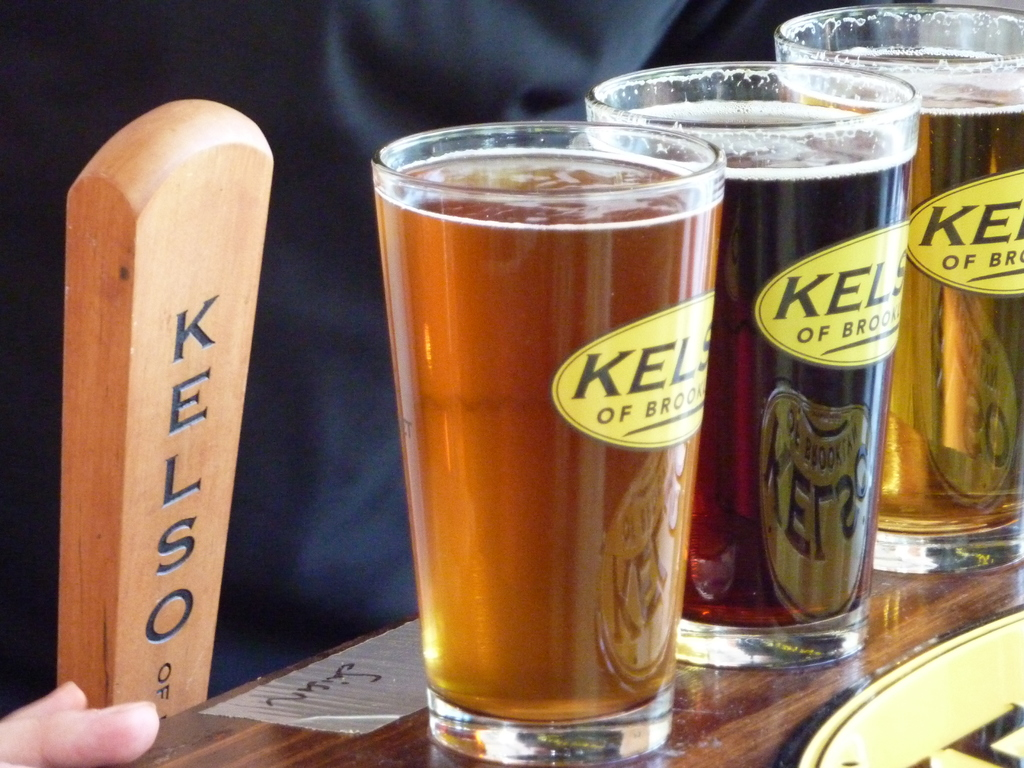Beer: (366, 112, 730, 767), (583, 55, 926, 673), (762, 0, 1023, 574)
